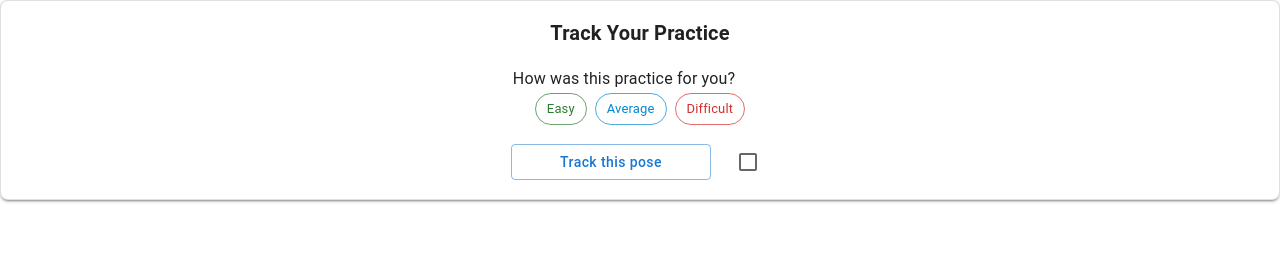
ActivityTracker Component › Activity Toggle Tests › should create activity with correct data on button click
Select difficulty
Click the button "Easy".
click(561, 109)  # box [535,93,587,125]
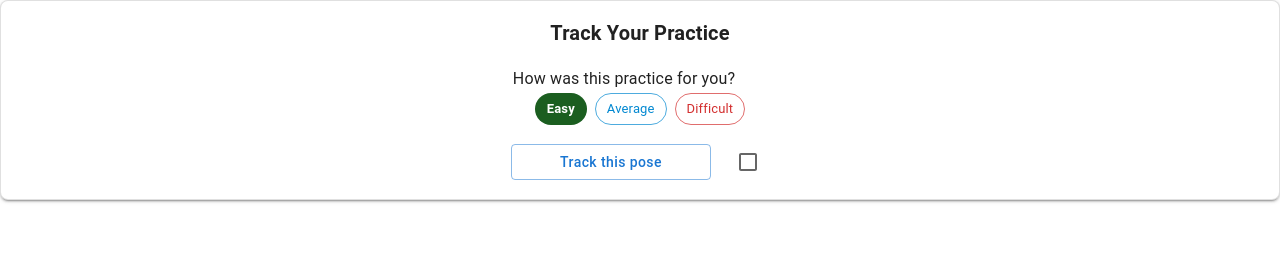
Click the button "Track this pose".
click(611, 162)  # box [511,144,711,180]
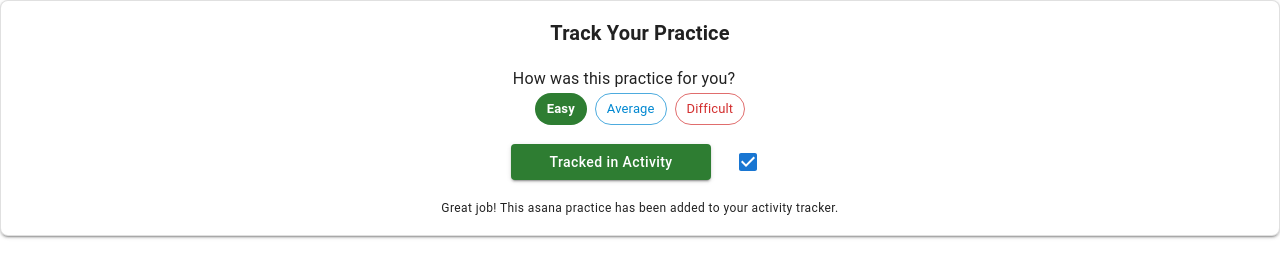
Expected: the button "Tracked in Activity" is shown, [511,144,711,180]
